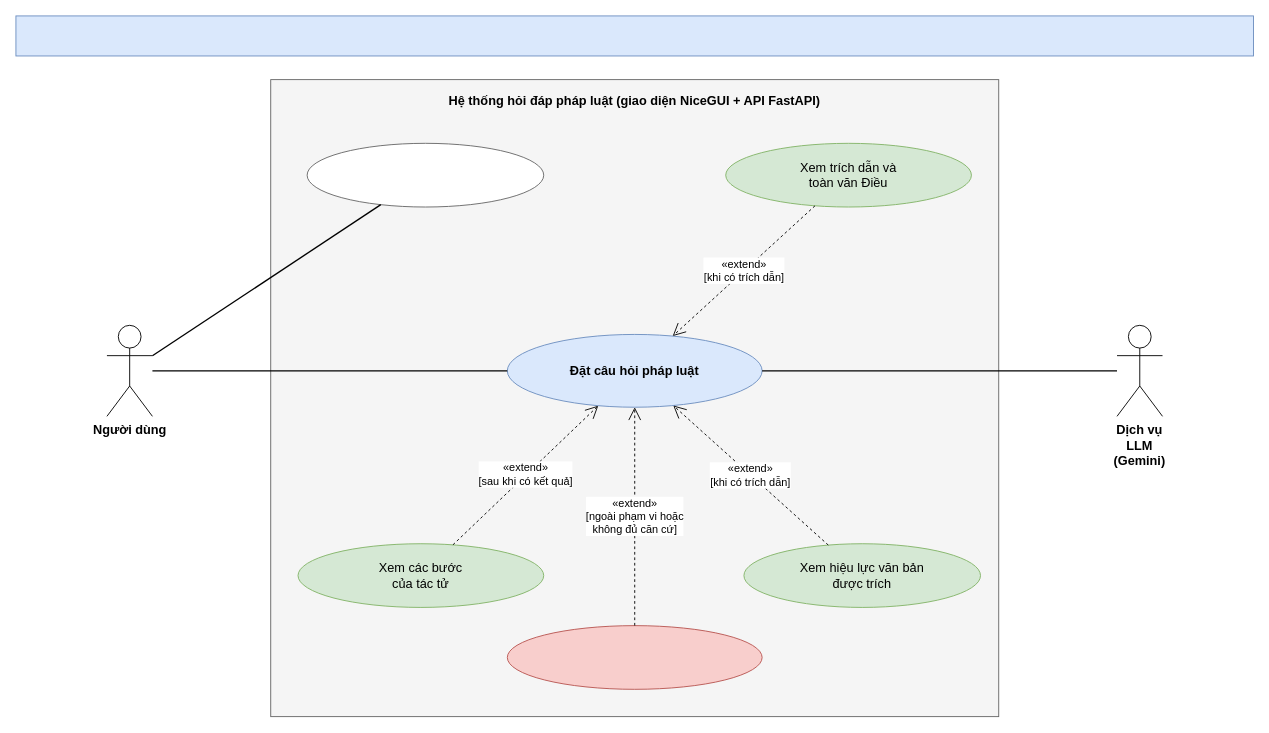
Some shapes in this 1269 by 733 pixel diagram are drawn without their labels. Here are the shapes that lost their labels. From the top down, the centre of each, then its label:
At (x=634, y=35): "SƠ ĐỒ USE CASE — Hệ thống hỏi đáp pháp luật Việt Nam (Agentic-RAG)".
At (x=425, y=174): "Chọn cấu hình tác tử".
At (x=634, y=657): "Nhận thông báo từ chối".
